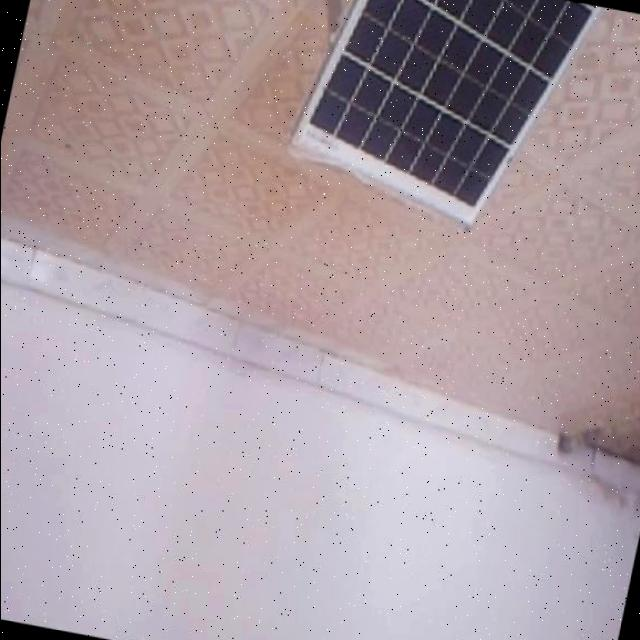Normal Solar Panel: (282, 0, 622, 246)
